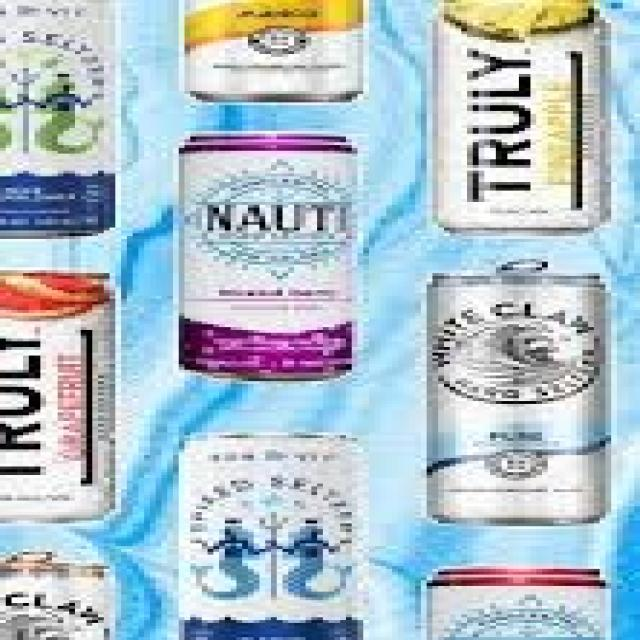Cans: (415, 253, 623, 532), (156, 122, 369, 387)
